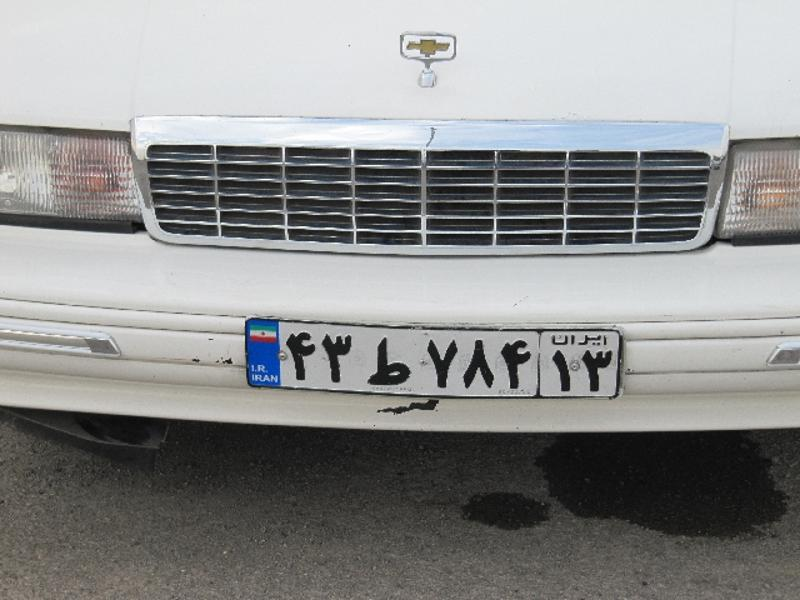Plate: (242, 304, 621, 413)
